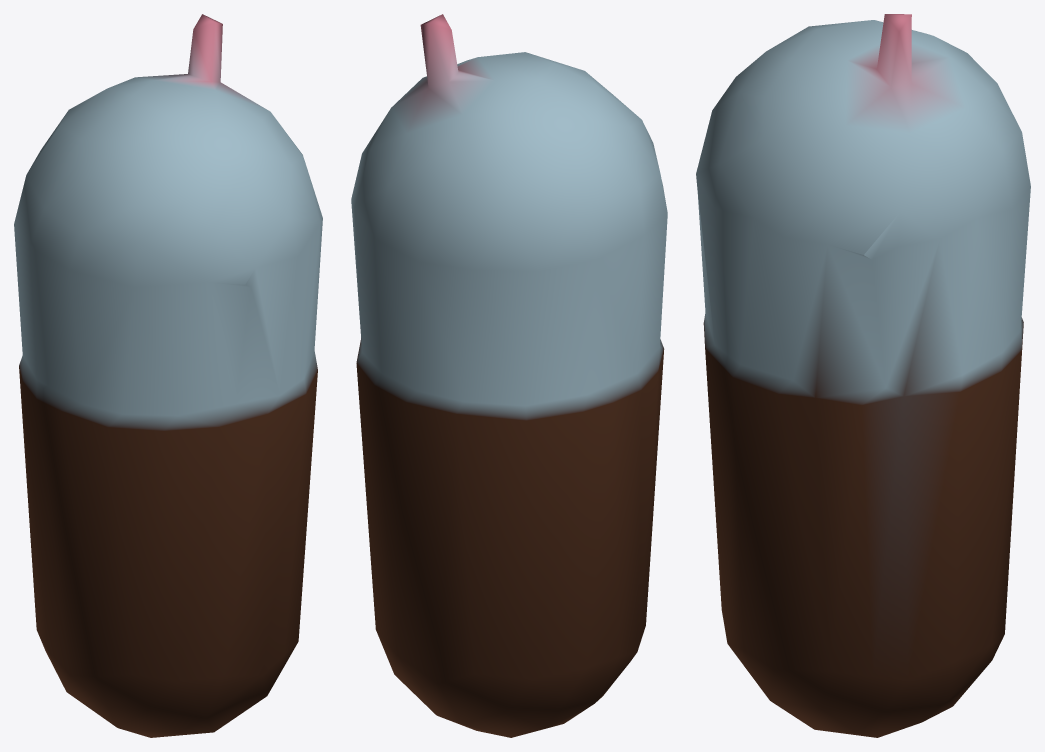
Rendered from ly_ca_phe.glb.
The picture shows the model from 3 angles, left to right: view 1: azimuth 30°, elevation 25°; view 2: azimuth 150°, elevation 25°; view 3: azimuth 270°, elevation 25°; orthographic projection. The views are drawn at different scales.
Parts seen in each view (by area): view 1: ly_ca_phe; view 2: ly_ca_phe; view 3: ly_ca_phe.
Boxes of the visible parts, box(x1,y1,x2,y2) form: ly_ca_phe: box(14, 14, 322, 737); ly_ca_phe: box(351, 14, 667, 737); ly_ca_phe: box(696, 14, 1030, 737).
Bounding box in the file's own units: 0.0966 × 0.2357 × 0.0968.
